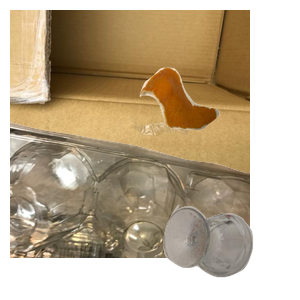cardboard: (10, 10, 250, 190)
glass: (161, 202, 300, 300)
plastic: (10, 120, 250, 300)
trash: (137, 65, 300, 188)
